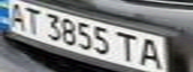3: (39, 11, 63, 43)
5: (90, 25, 115, 57), (75, 20, 93, 52)
8: (57, 16, 78, 46)
A: (136, 35, 169, 70), (0, 1, 30, 29)
T: (115, 29, 142, 64), (21, 6, 48, 35)
